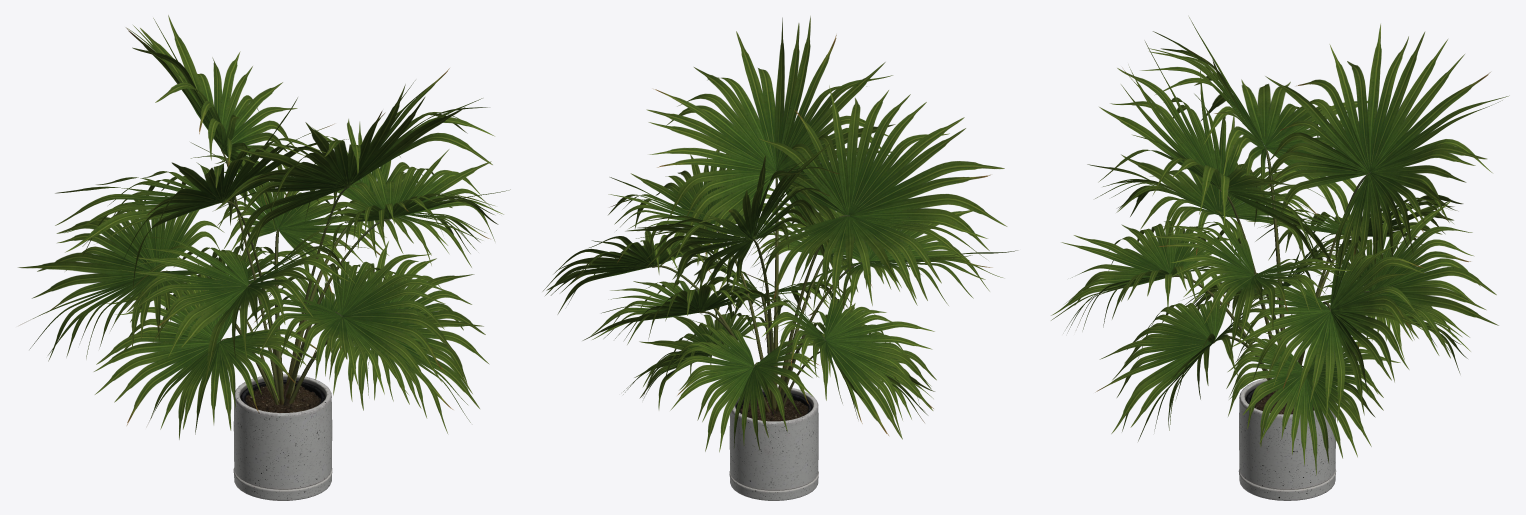
The model's file is plant1.glb.
The picture shows the model from 3 angles, left to right: view 1: azimuth 30°, elevation 25°; view 2: azimuth 150°, elevation 25°; view 3: azimuth 270°, elevation 25°; orthographic projection. The views are drawn at different scales.
Visible parts, largest first — view 1: LIVISTONA_CHINENSIS_LIVISTONA_CHINENSIS_Mat_0, PLANTER_TERRA_BASE_PLANTER_BOTTOM_CROSS_Mat_0; view 2: LIVISTONA_CHINENSIS_LIVISTONA_CHINENSIS_Mat_0, PLANTER_TERRA_BASE_PLANTER_BOTTOM_CROSS_Mat_0; view 3: LIVISTONA_CHINENSIS_LIVISTONA_CHINENSIS_Mat_0, PLANTER_TERRA_BASE_PLANTER_BOTTOM_CROSS_Mat_0.
Part boxes in pixels (box(x1,y1,x2,y2)): LIVISTONA_CHINENSIS_LIVISTONA_CHINENSIS_Mat_0: box(18, 15, 510, 439); PLANTER_TERRA_BASE_PLANTER_BOTTOM_CROSS_Mat_0: box(233, 374, 332, 500); LIVISTONA_CHINENSIS_LIVISTONA_CHINENSIS_Mat_0: box(542, 16, 1017, 452); PLANTER_TERRA_BASE_PLANTER_BOTTOM_CROSS_Mat_0: box(729, 386, 818, 500); LIVISTONA_CHINENSIS_LIVISTONA_CHINENSIS_Mat_0: box(1051, 17, 1509, 475); PLANTER_TERRA_BASE_PLANTER_BOTTOM_CROSS_Mat_0: box(1238, 377, 1336, 500).
Size of the model in its own units: 1.6 by 1.53 by 1.45.
Materials: 2 (2 with a texture image).
